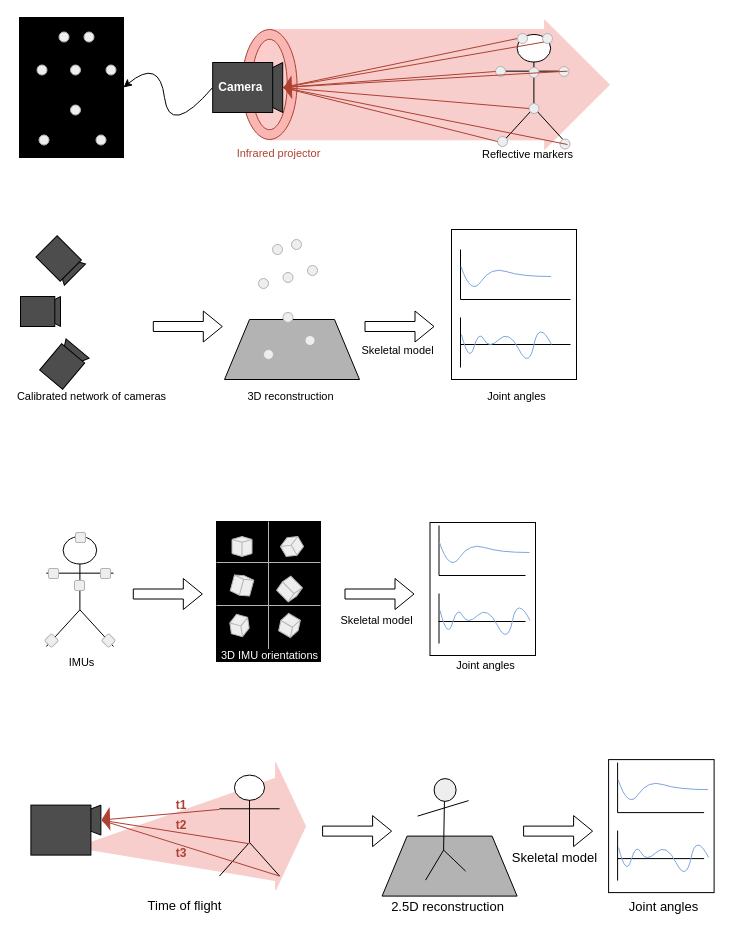
This 732x932 diagram has some shape labels left out. The shapes that lost their labels are listed below. From the top down, each one's box as (x1, y1, x2, y2) in pixels, then its label:
(18, 16, 124, 158): 2D marker positions
(30, 804, 91, 855): Depth camera
